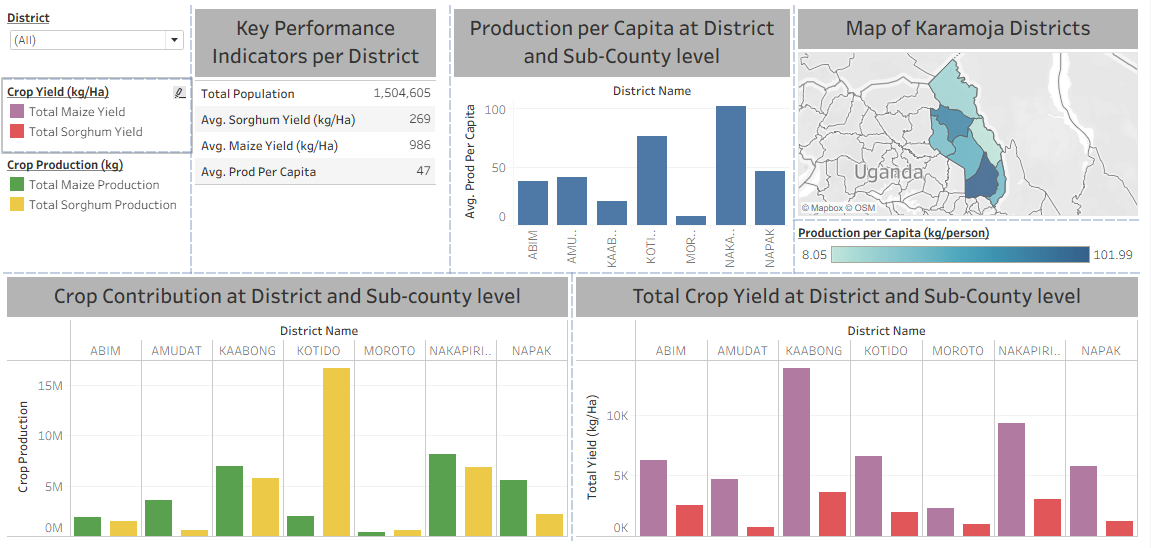

The page's visual inventory and layout, read from the dashboard file:
{"tool":"tableau","page":{"name":"Dashboard 2","canvas":[1000,1000],"units":"permille","ordinal":0},"visuals":[{"type":"filter","title":"Key Performance Indicators per District","param":"[federated.1eu0slk1k7wa0d1f67u4b1pxaop2].[none:NAME:nk]","box":[6.9,14.5,162.8,133.2]},{"type":"worksheet","title":"Key Performance Indicators per District","mark":"Automatic","box":[169.7,14.5,220.8,485.5]},{"type":"worksheet","title":"Production per Capita at District and Sub-County level","mark":"Automatic","rows":["prod_per_capita (subcounty_cleaned.csv)"],"cols":["DISTRICT_NAME"],"box":[390.5,14.5,232.9,485.5]},{"type":"worksheet","title":"Total Crop Yield (kg/Ha) at District and Sub-County level","mark":"Automatic","cols":["DISTRICT_NAME"],"box":[623.4,14.5,369.7,485.5]},{"type":"legend","title":"Total Crop Yield (kg/Ha) at District and Sub-County level","param":"[federated.1eu0slk1k7wa0d1f67u4b1pxaop2].[:Measure Names]","box":[6.9,147.7,162.8,133.2]},{"type":"legend","title":"Crop Contribution at District and Sub-county level","param":"[federated.1eu0slk1k7wa0d1f67u4b1pxaop2].[:Measure Names]","box":[6.9,280.8,162.8,219.2]},{"type":"worksheet","title":"Crop Contribution at District and Sub-county level","mark":"Automatic","cols":["DISTRICT_NAME"],"box":[6.9,500,493.1,485.5]},{"type":"worksheet","title":"Map of Karamoja Districts","mark":"Automatic","box":[500,500,493.1,364.1]},{"type":"legend","title":"Map of Karamoja Districts","param":"[federated.1eu0slk1k7wa0d1f67u4b1pxaop2].[sum:prod_per_capita:qk]","box":[500,864.1,493.1,121.4]}]}

Visuals, with their boxes on the dashboard's canvas, which has no fixed pixel size, in thousandths of its width and height (x1, y1, x2, y2). These are canvas units, not pixel positions in the 1151x548 screenshot, which may show the page scaled, cropped or inside an application window:
"Key Performance Indicators per District" filter: [7, 14, 170, 148]
"Key Performance Indicators per District" worksheet: [170, 14, 390, 500]
"Production per Capita at District and Sub-County level" worksheet: [390, 14, 623, 500]
"Total Crop Yield (kg/Ha) at District and Sub-County level" worksheet: [623, 14, 993, 500]
"Total Crop Yield (kg/Ha) at District and Sub-County level" legend: [7, 148, 170, 281]
"Crop Contribution at District and Sub-county level" legend: [7, 281, 170, 500]
"Crop Contribution at District and Sub-county level" worksheet: [7, 500, 500, 986]
"Map of Karamoja Districts" worksheet: [500, 500, 993, 864]
"Map of Karamoja Districts" legend: [500, 864, 993, 986]
